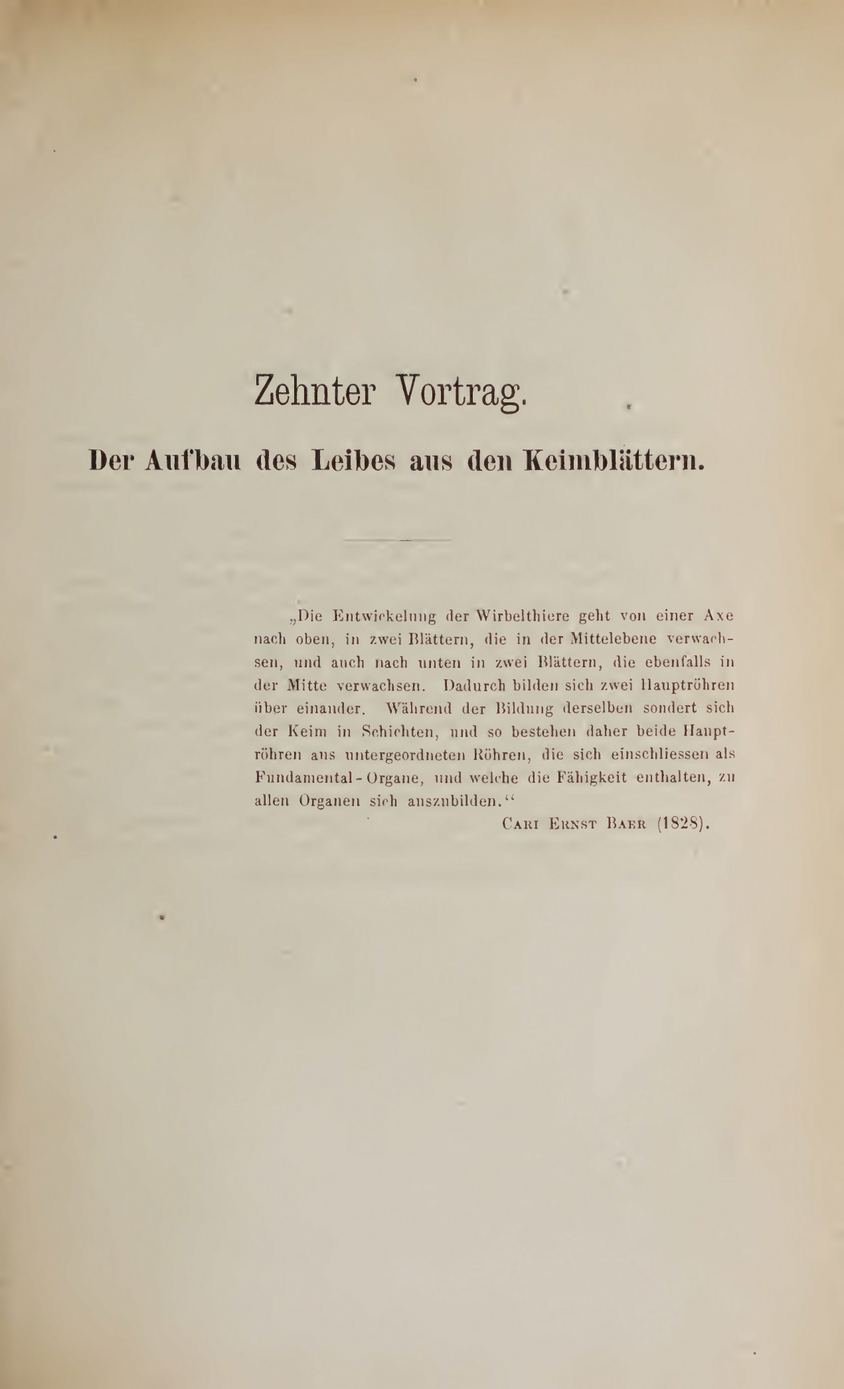Customzone_title: (58, 344, 749, 532)
MainZone: (230, 589, 747, 848)
